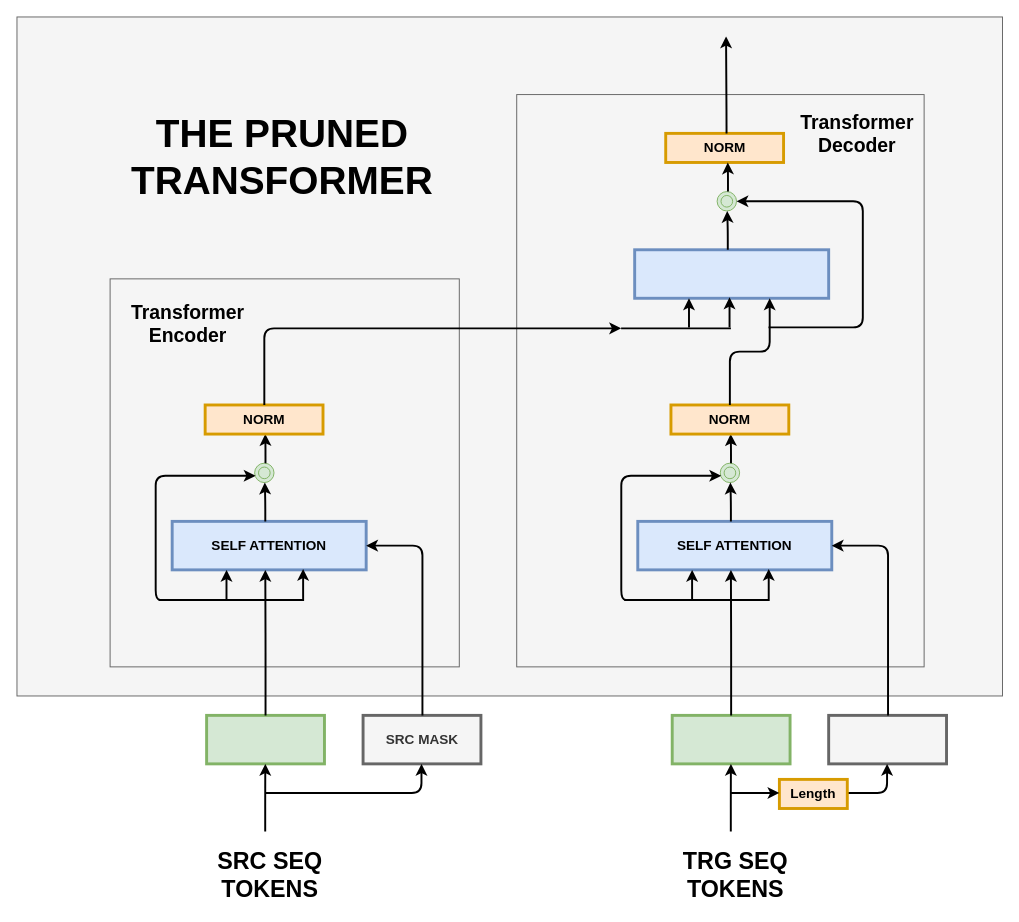
Image size: 1019x922. Some labels were removed from this diagram. The shapes that lost their labels are listed below. From the top down, each one's box as (x1, y1, x2, y2) in pixels, then its label:
(633, 248, 830, 299): CROSS ATTENTION
(205, 713, 325, 765): SRC EMBED
(670, 713, 791, 765): TRG EMBED
(827, 713, 947, 765): TRG MASK
